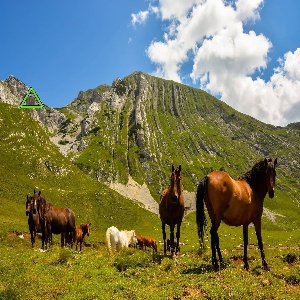triangle: (17, 86, 45, 111)
